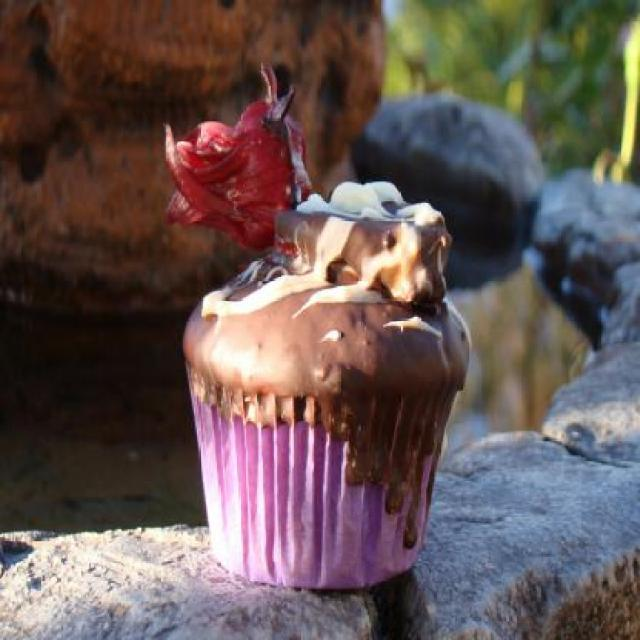Muffin: (160, 59, 474, 596)
